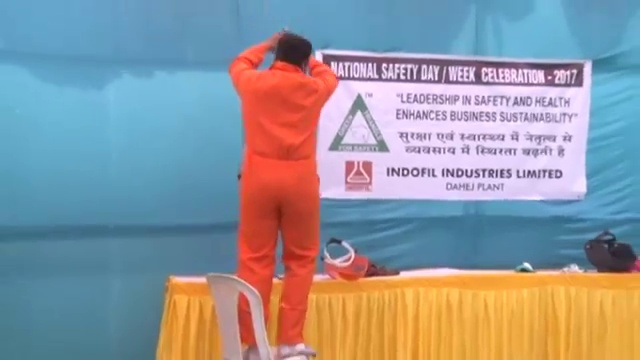helmet_off: (272, 31, 313, 72)
person: (228, 29, 337, 360)
